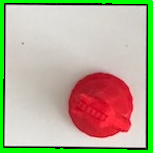Red Knight: (64, 70, 133, 137)
